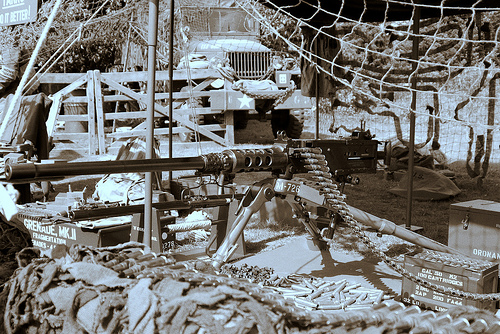rifle: (7, 128, 466, 282)
